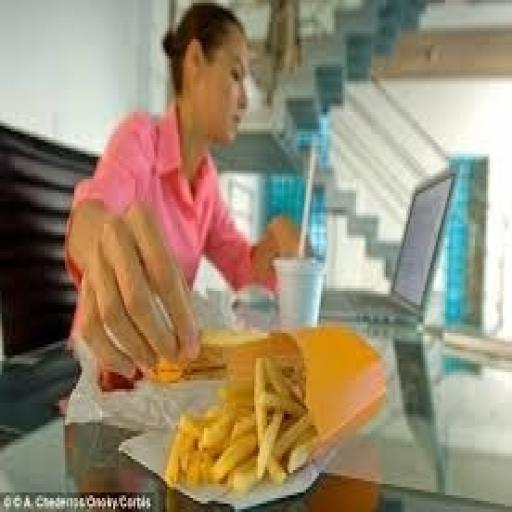eating: (61, 0, 310, 392)
